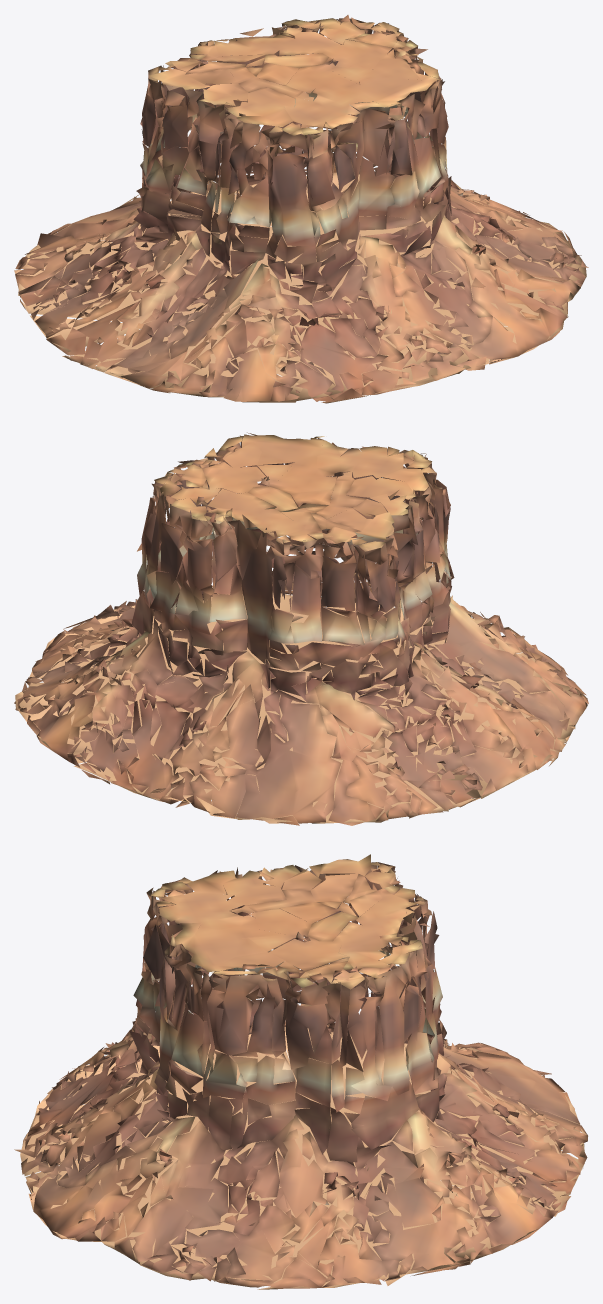
Rendered from mesa.glb.
3 views of the same model, one above another, from view 1: azimuth 30°, elevation 25°; view 2: azimuth 150°, elevation 25°; view 3: azimuth 270°, elevation 25° (orthographic). The views are drawn at different scales.
Visible parts, largest first — view 1: LO.001; view 2: LO.001; view 3: LO.001.
Part boxes in pixels (x1,y1,x2,y2): LO.001: (14, 15, 588, 403); LO.001: (14, 432, 588, 825); LO.001: (14, 854, 588, 1289).
Size of the model in its own units: 0.9907 by 0.4398 by 0.9057.
1 material, 1 textured.
